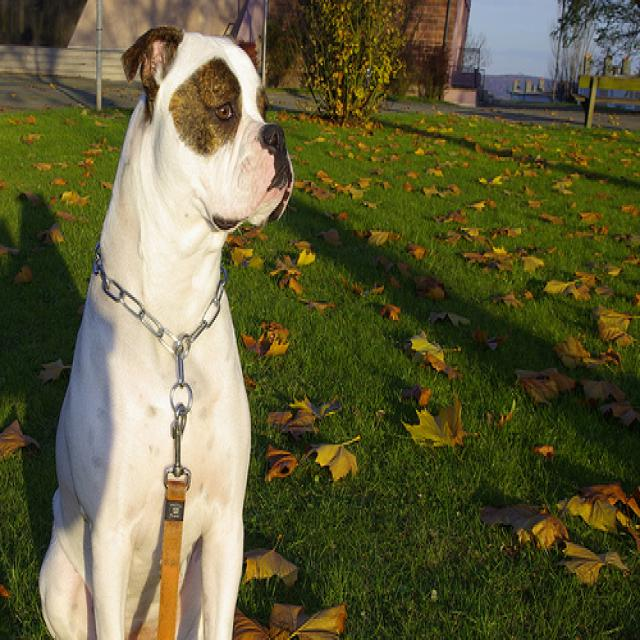dog-american_bulldog: (29, 8, 305, 636)
